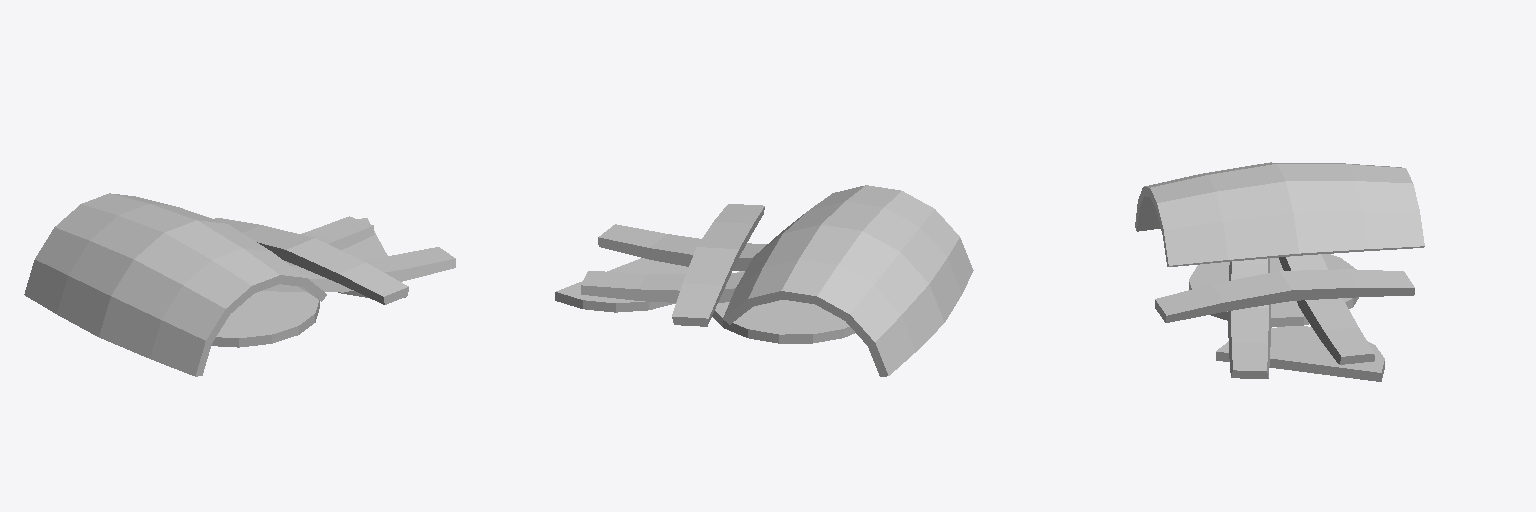
File: barrel_4_004.obj
The picture shows the model from 3 angles: view 1: azimuth 30°, elevation 25°; view 2: azimuth 150°, elevation 25°; view 3: azimuth 270°, elevation 25°; orthographic projection.
Visible parts, largest first — view 1: barrel2.009_Circle.015; view 2: barrel2.009_Circle.015; view 3: barrel2.009_Circle.015.
Part boxes in pixels (left/top/right/bottom): barrel2.009_Circle.015: left=24, top=193, right=455, bottom=376; barrel2.009_Circle.015: left=555, top=185, right=973, bottom=376; barrel2.009_Circle.015: left=1135, top=162, right=1424, bottom=381.
Bounding box in the file's own units: 4.2 × 1.08 × 2.99.